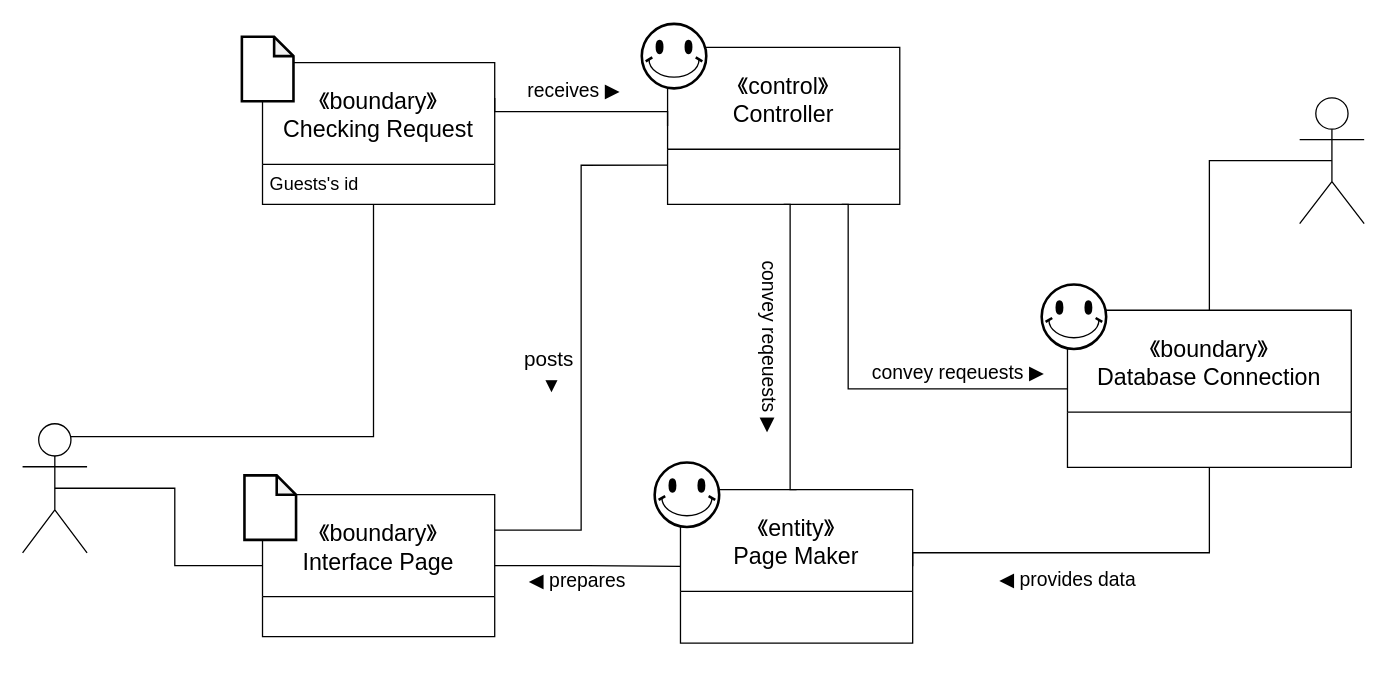
Some shapes in this 1387 by 677 pixel diagram are drawn without their labels. The centre of each missing label's shape, as x and y in pixels:
"Database" goes at (x=1331, y=160).
"Manager" goes at (x=54, y=487).
